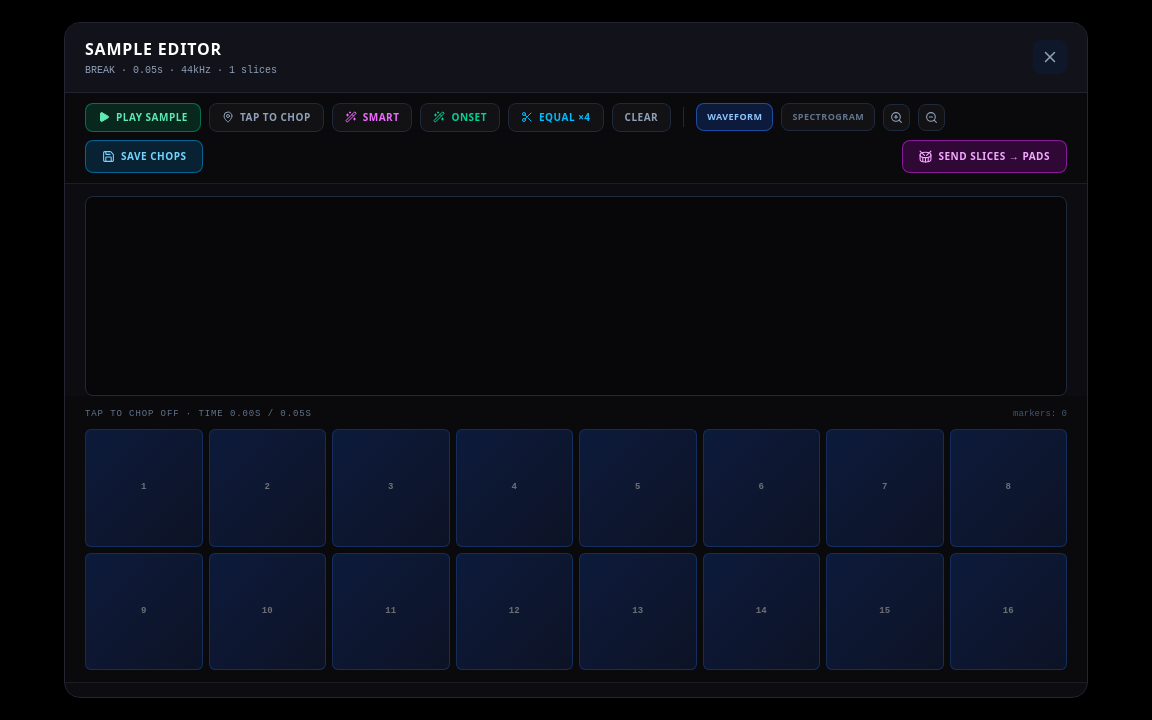
Test: ChopEditor coverage › equal slicing produces pad rows and the header slice count
Click the button "Equal ×4" at (556, 117), box [508,103,604,132]
(page scrolled)
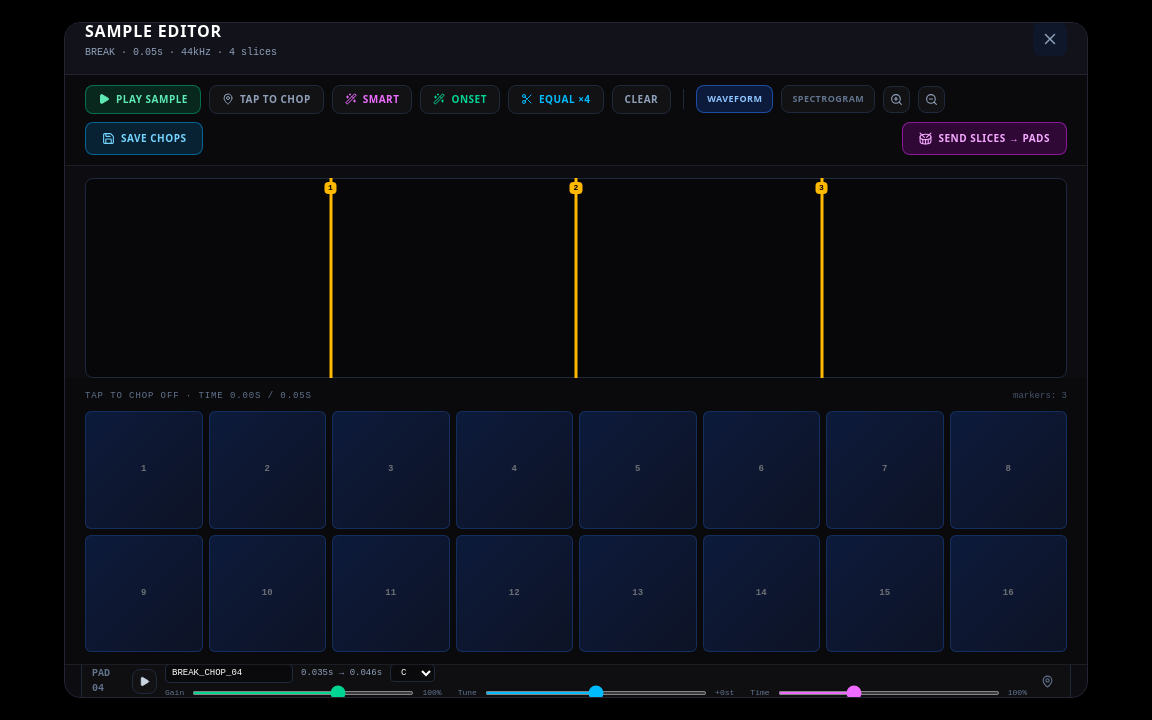
Now the text "BREAK · 0.05s · 44kHz · 4 slices" is shown, box [85,45,277,60]
Now the text "PAD 04" is shown, box [92,668,110,694]
